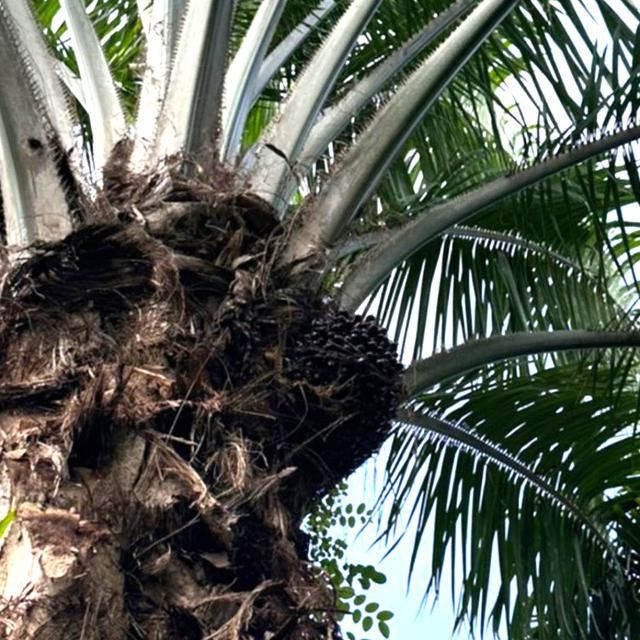almost: (288, 307, 409, 466)
